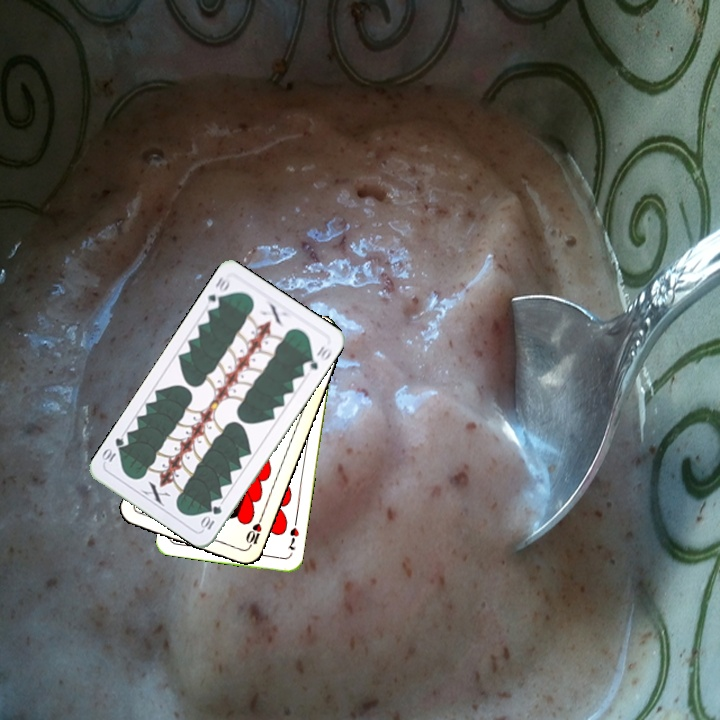G10: (202, 272, 233, 312), (197, 502, 224, 532)
H10: (242, 513, 265, 552)
H7: (284, 523, 302, 553)
